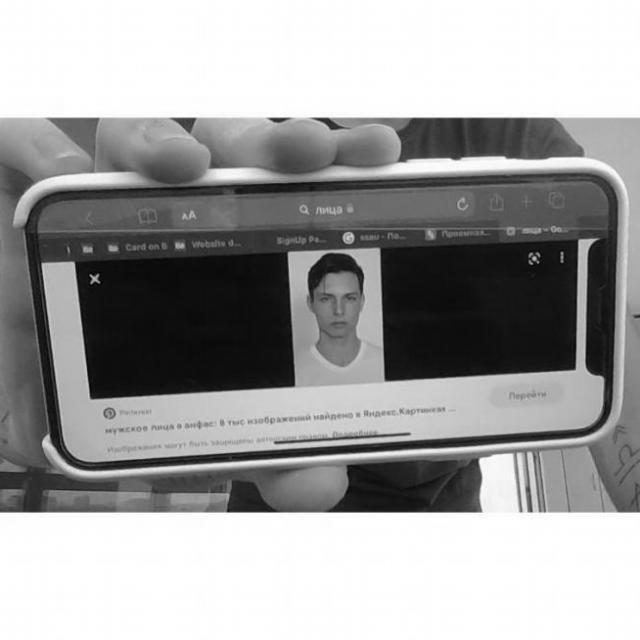fake: (4, 149, 636, 484)
